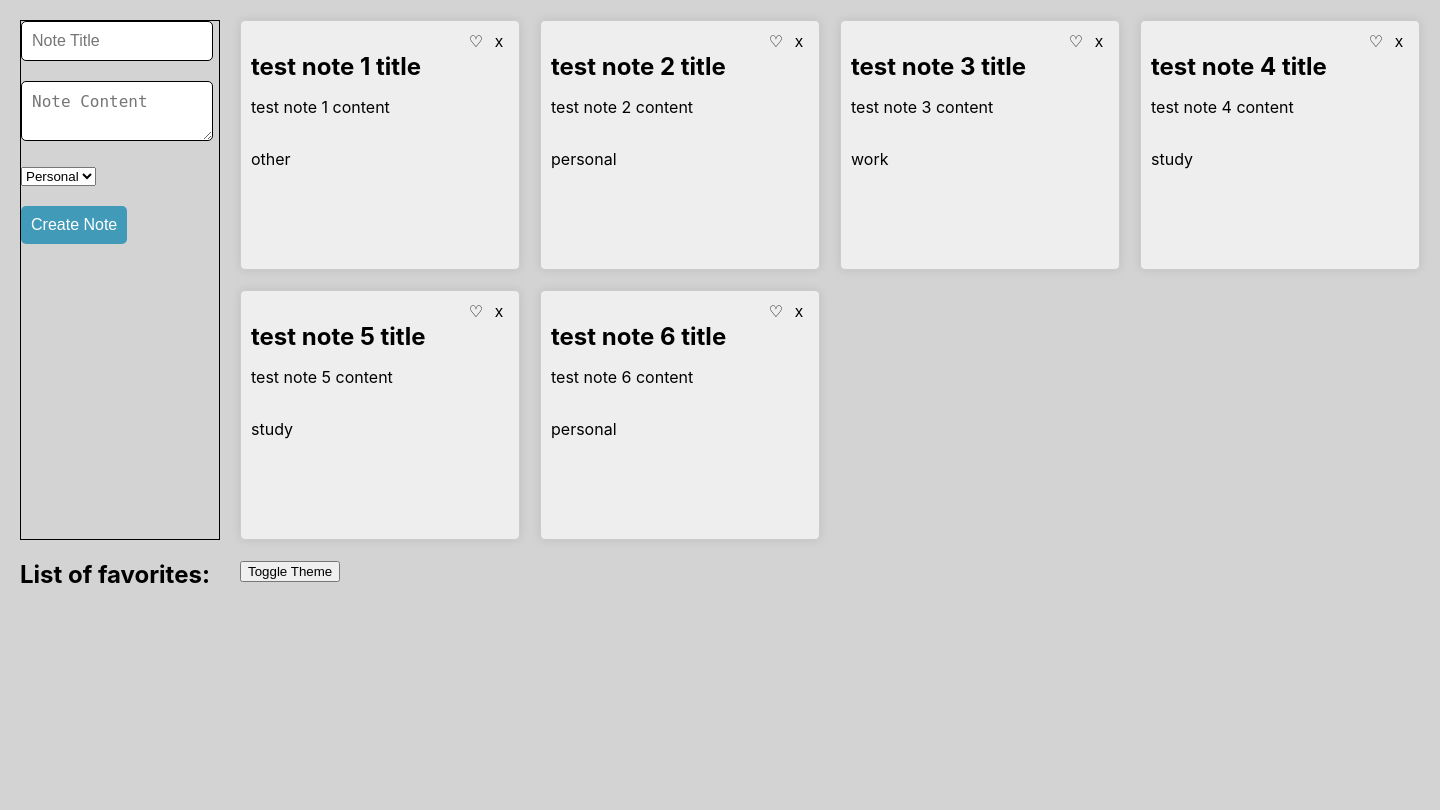
Scenario: StickyNote read › read some note
The image size is (1440, 810).
Expected: the heading "test note 1 title" is shown, [251,52,421,81]
Expected: the heading "test note 2 title" is shown, [551,52,726,81]
# create some new notes
Type "New Note 1" into the field with placeholder "Note Title" at (117, 41), box [21,21,213,61]
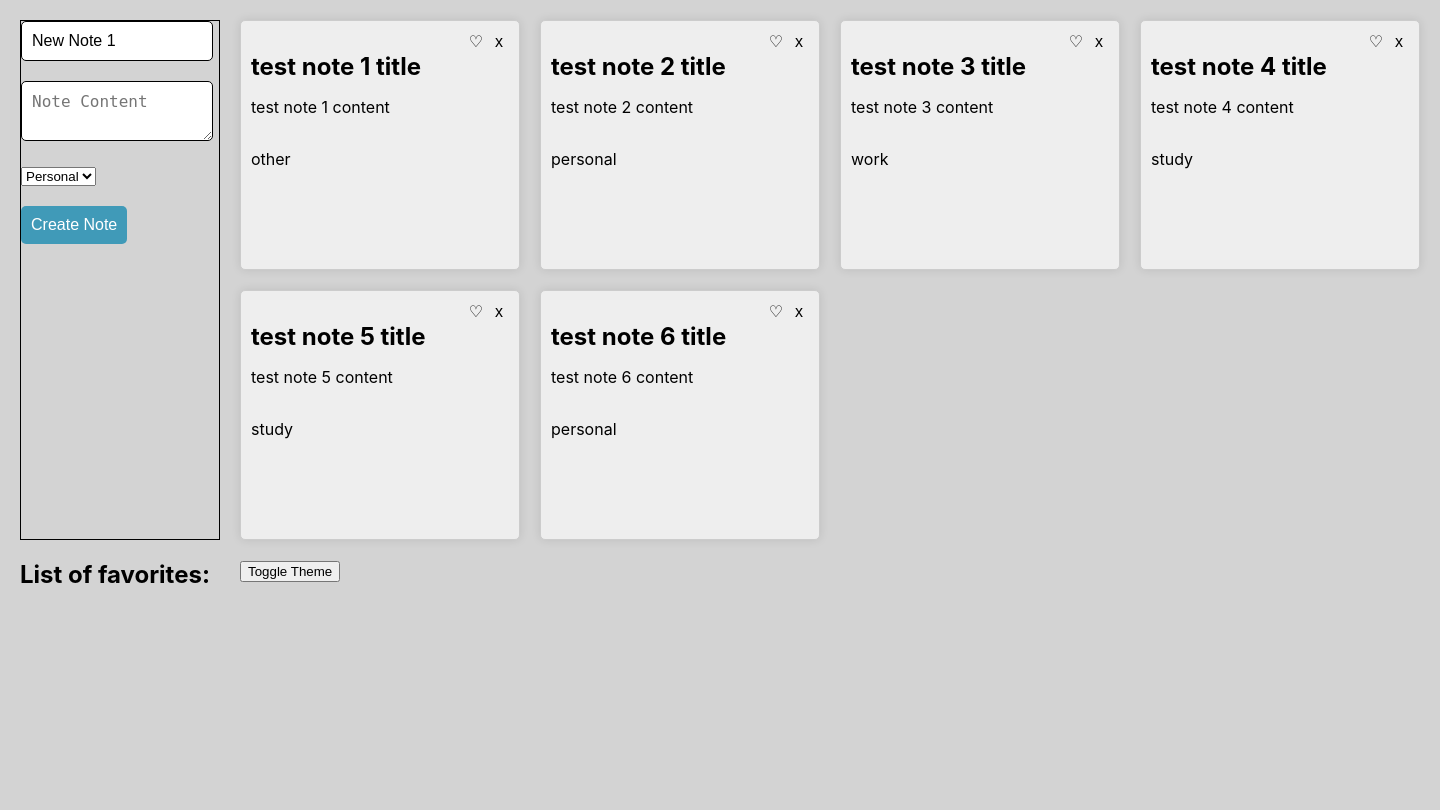
Type "some  stuff 1" into the text box with placeholder "Note Content" at (117, 111), box [21,81,213,141]
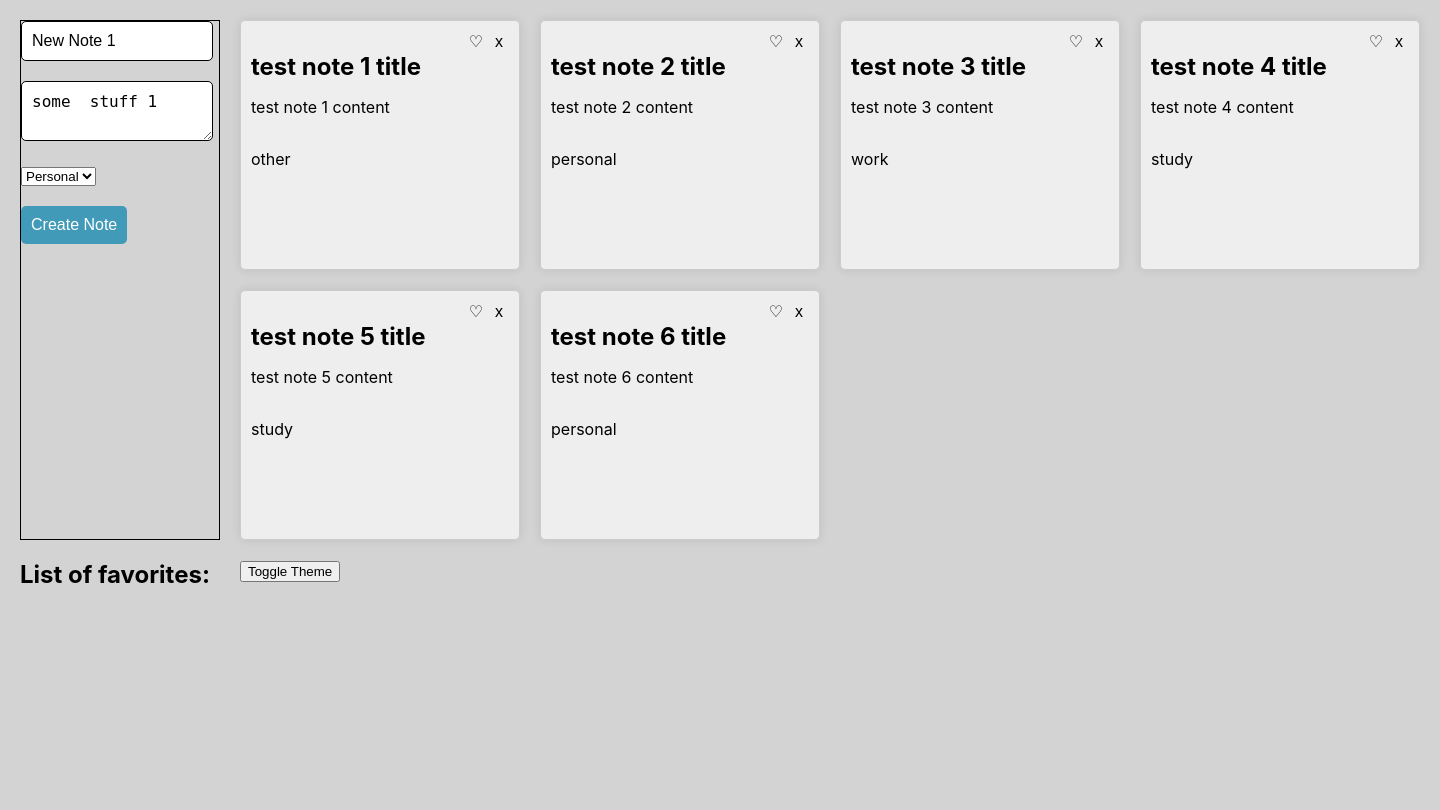
Click the button "Create Note" at (74, 225), box [21,206,127,244]
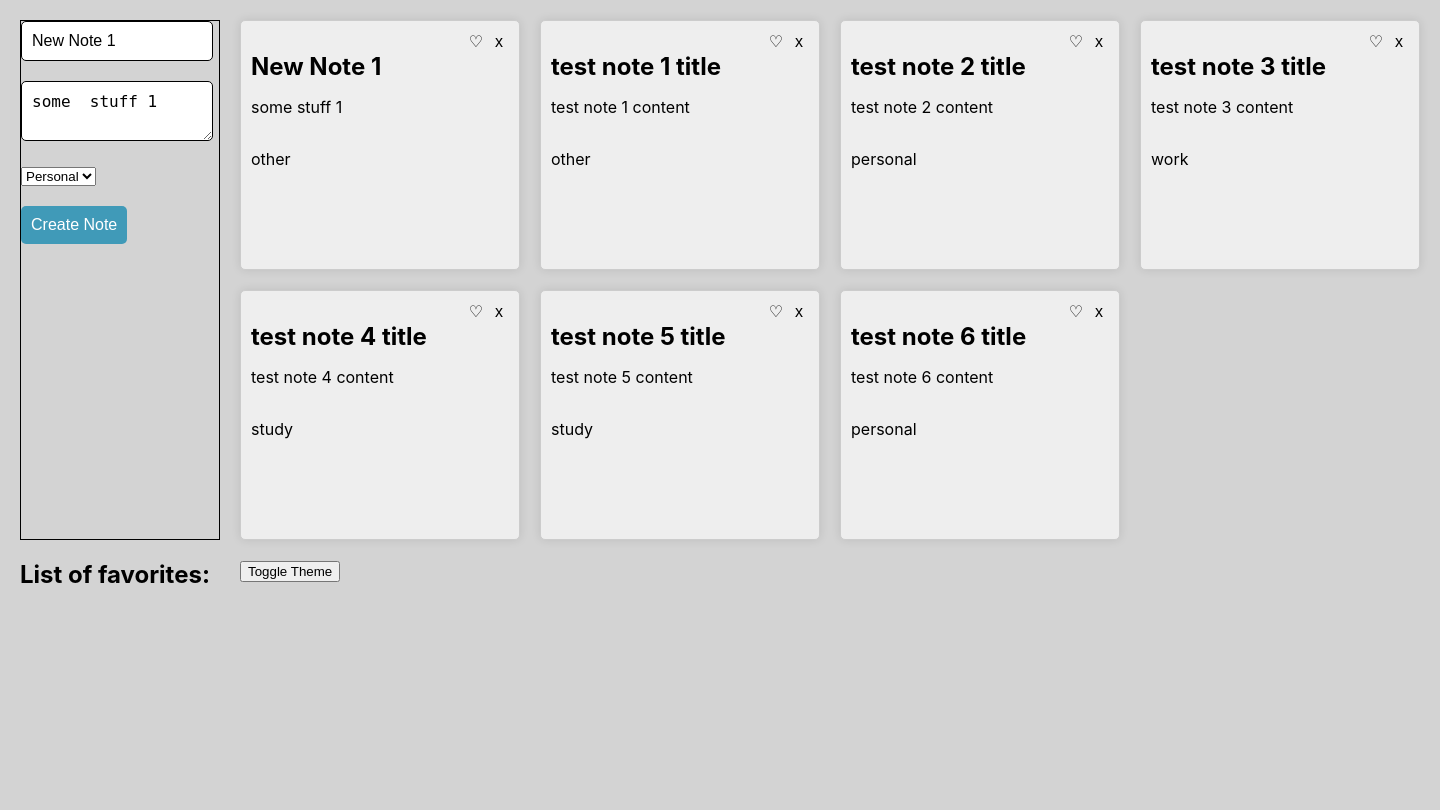
Replace the text in the field with placeholder "Note Title" with "New Note 2" at (117, 41), box [21,21,213,61]
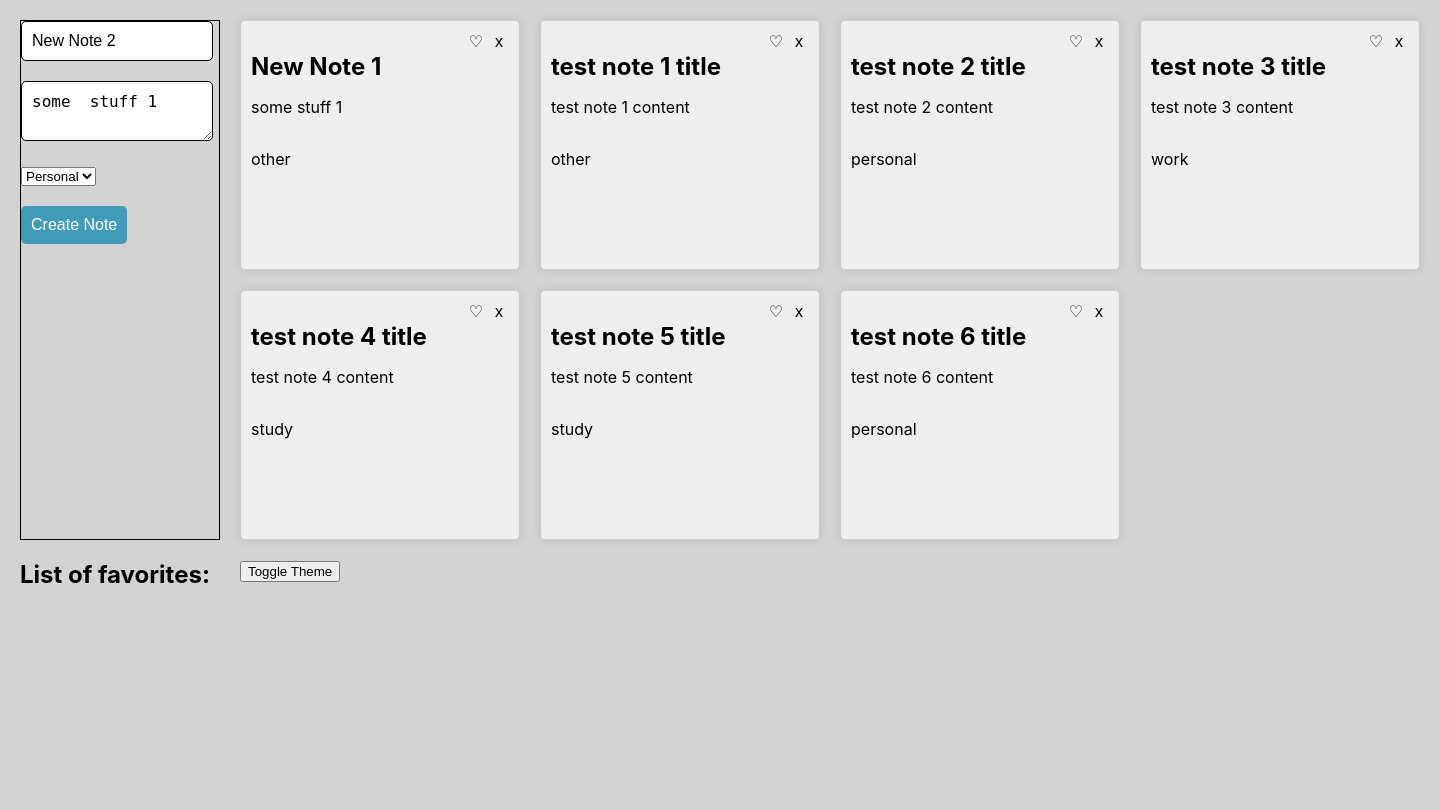
Replace the text in the text box with placeholder "Note Content" with "some more stuff" at (117, 111), box [21,81,213,141]
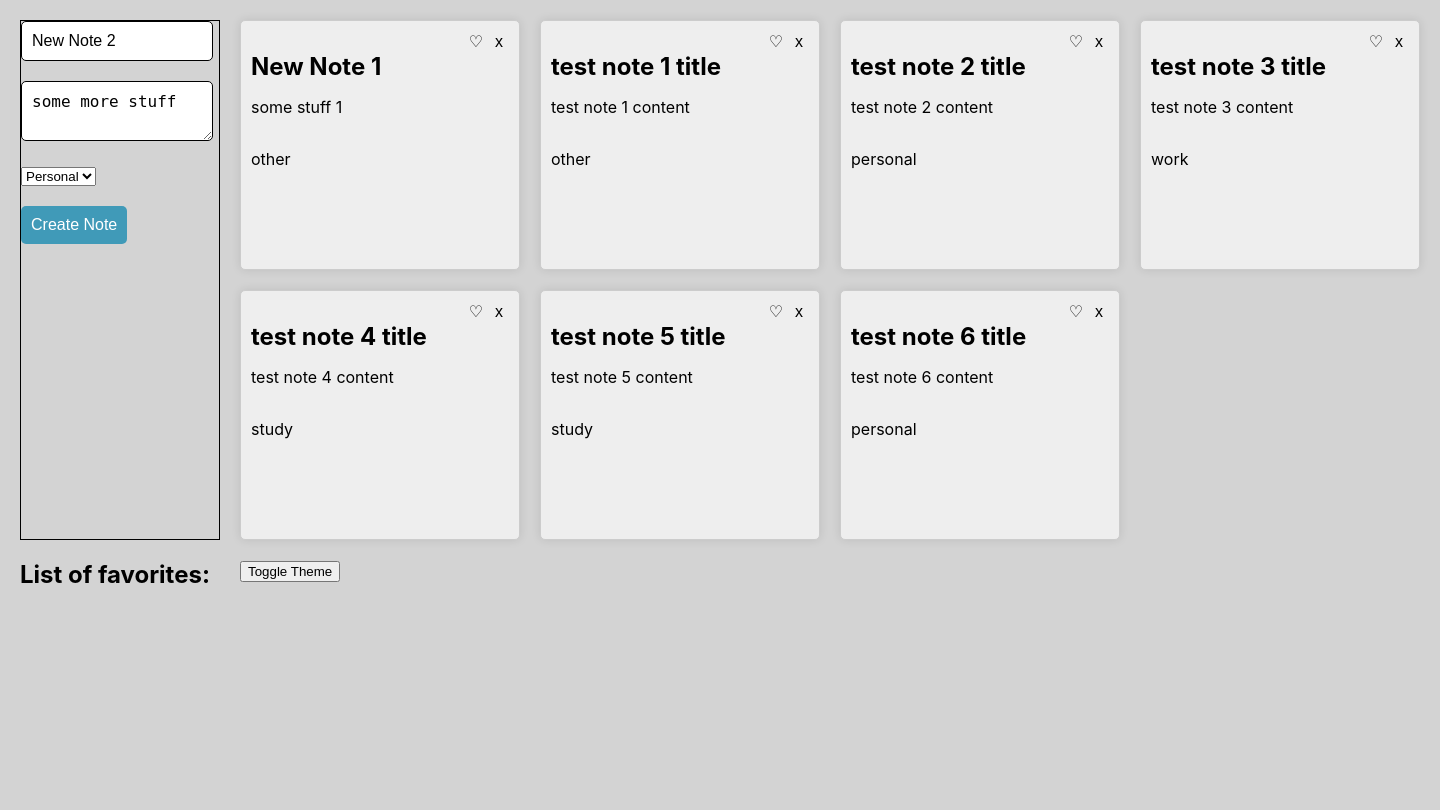
Click the button "Create Note" at (74, 225), box [21,206,127,244]
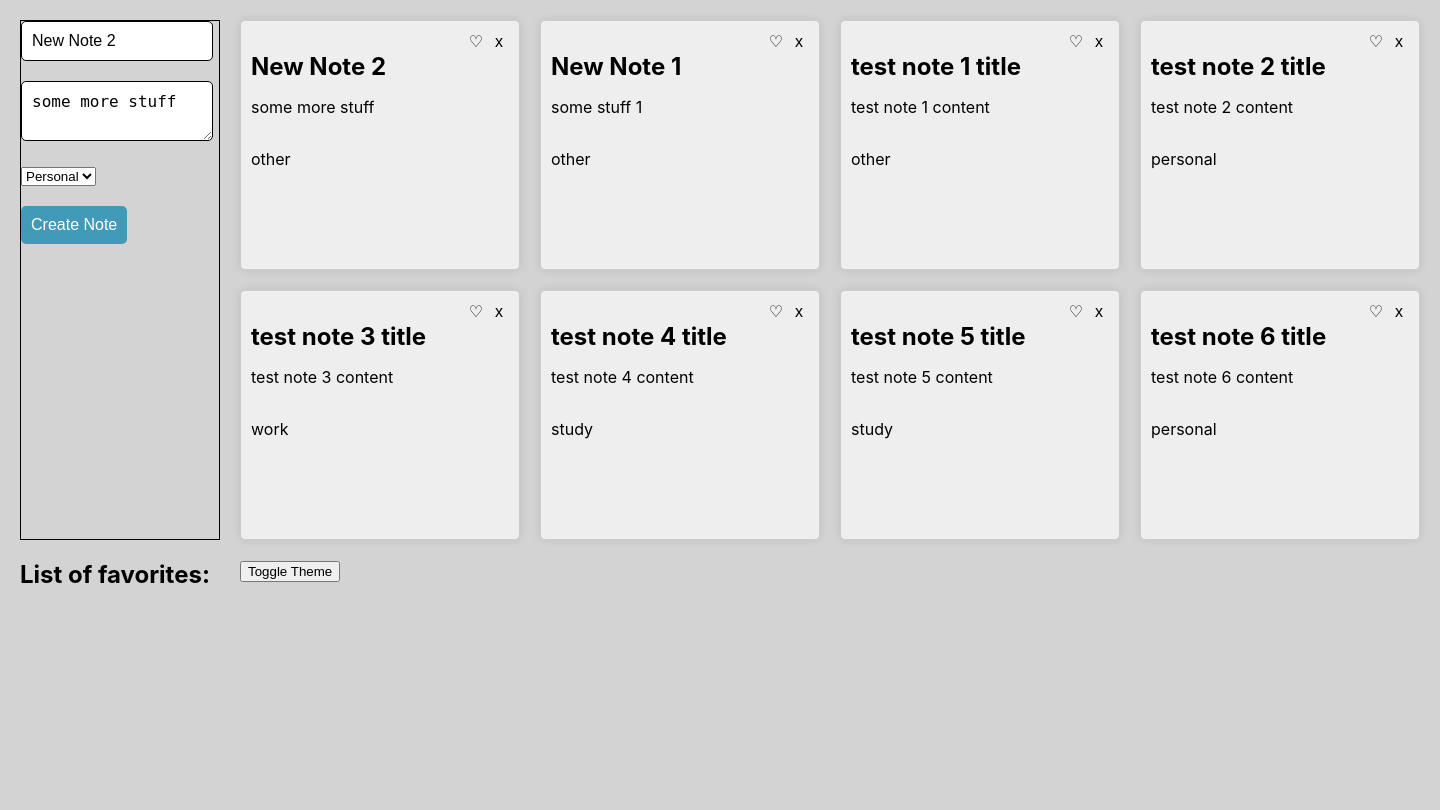
Now the heading "New Note 1" is shown, box [551,52,681,81]
Now the text box "some more stuff" is shown, box [251,97,374,117]
